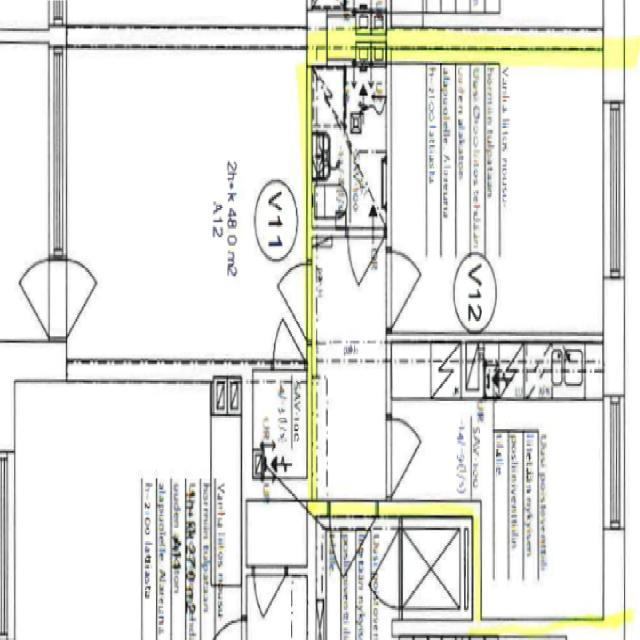door: (331, 500, 376, 602), (387, 419, 433, 496), (387, 252, 433, 328), (348, 227, 384, 305)
